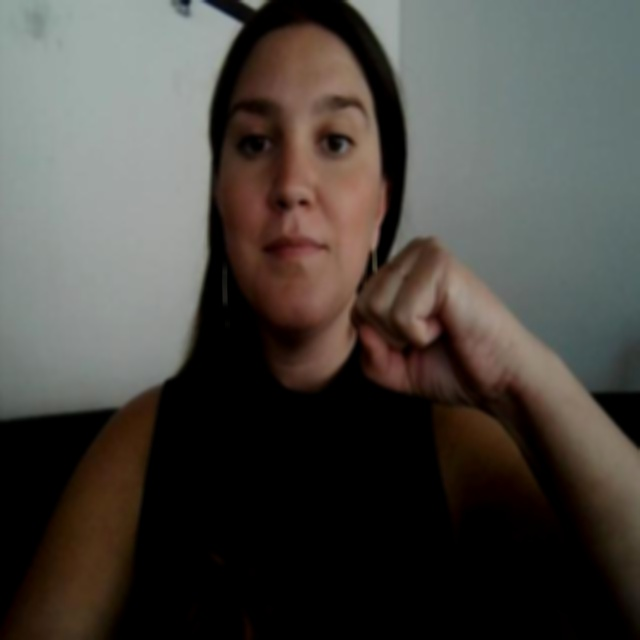Rock: (347, 227, 538, 424)
